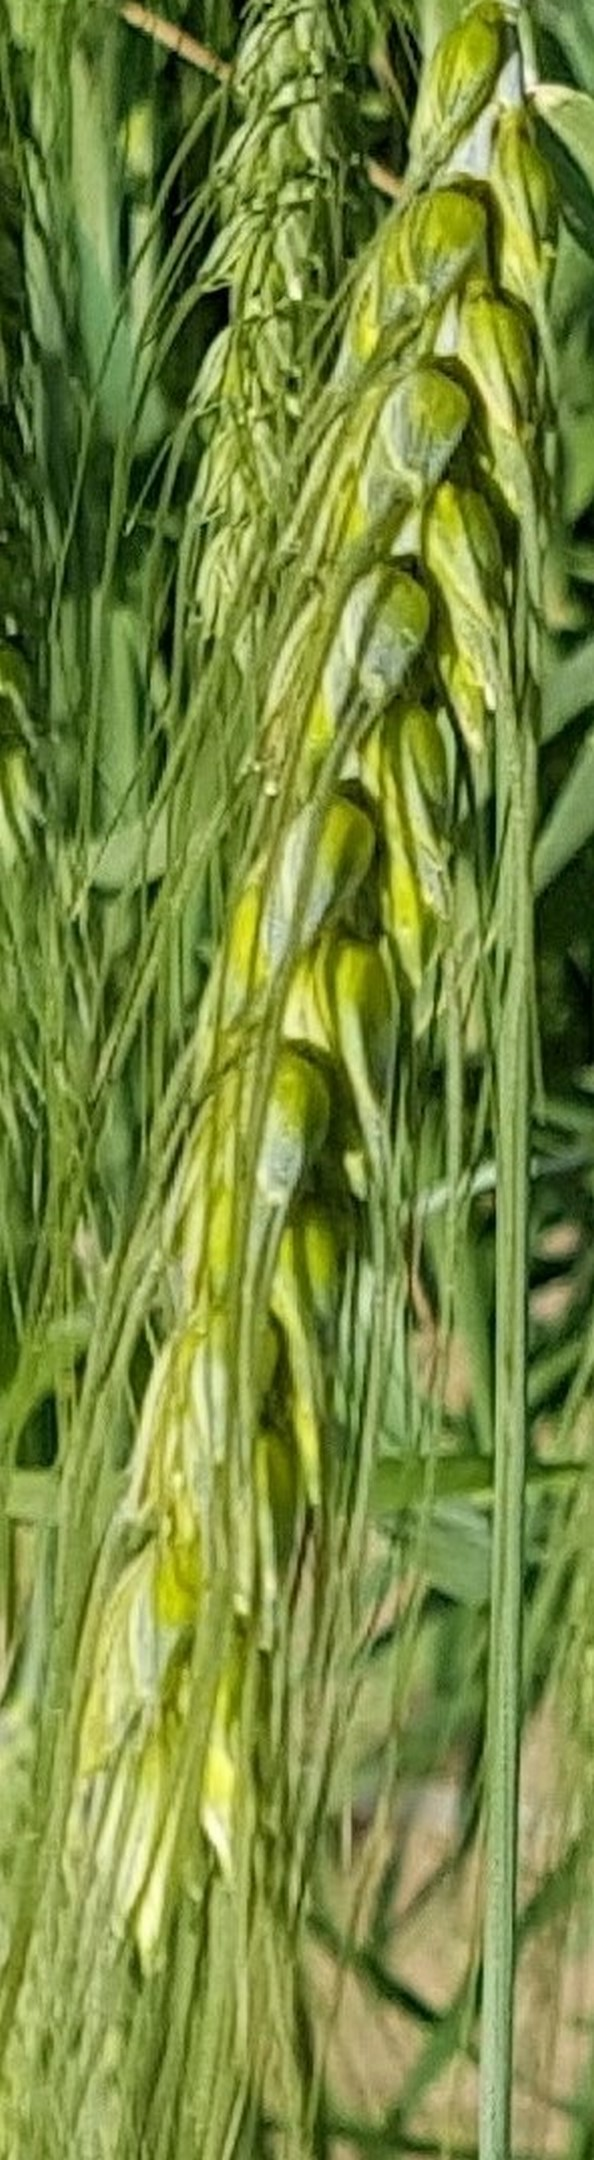Healthy Wheat: (59, 84, 594, 1911)
